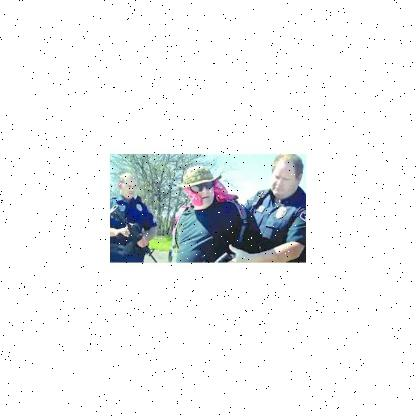gun: (108, 205, 156, 261)
